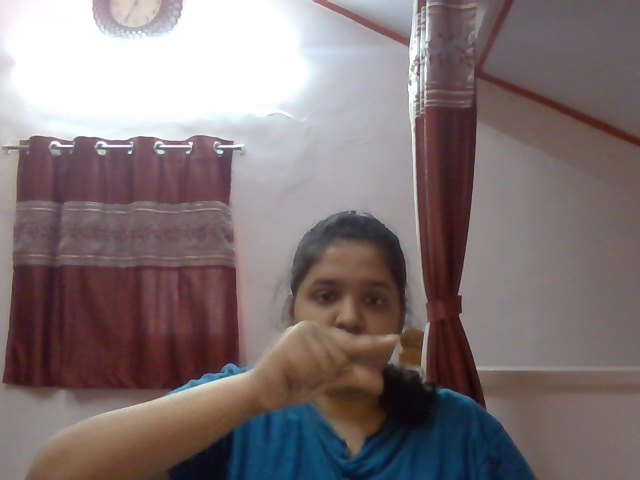g: (273, 310, 410, 414)
